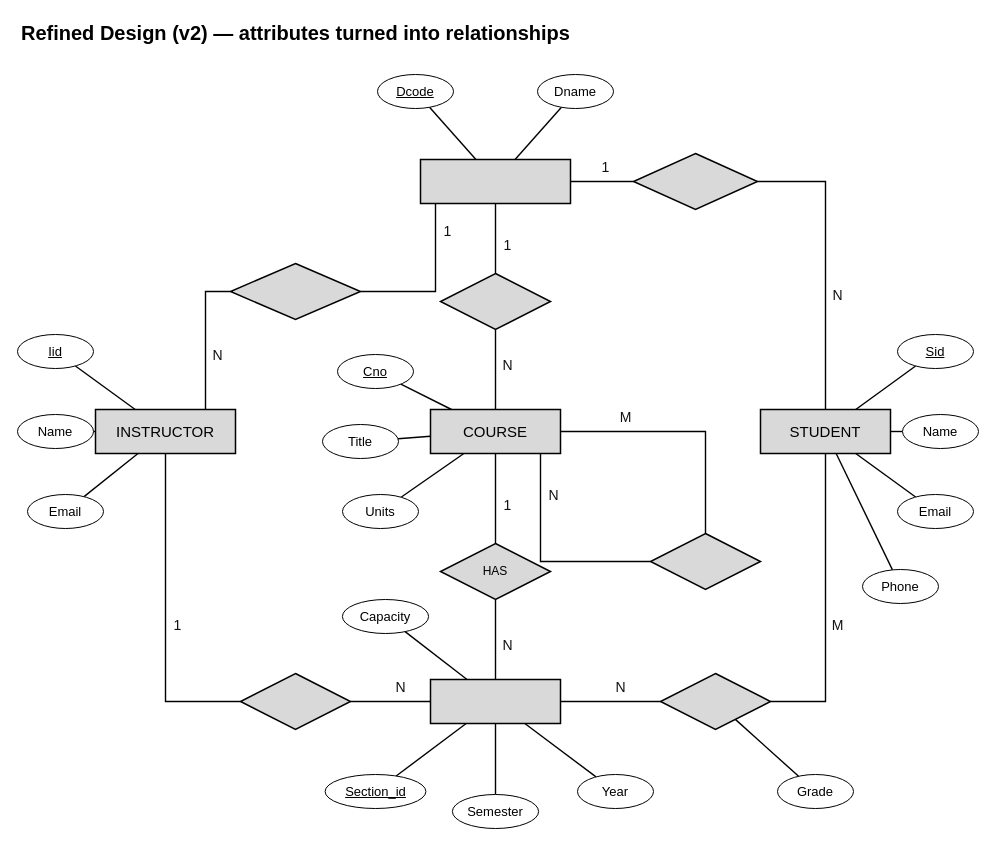
Image size: 996x846. Some labels were removed from this diagram. Here are the shapes that lost their labels. From the top down, the centre of each, then its label:
At (495,181): "DEPARTMENT".
At (695,181): "MAJORS_IN".
At (295,291): "BELONGS_TO".
At (495,301): "OFFERS".
At (705,561): "PREREQ".
At (295,701): "TEACHES".
At (495,701): "SECTION".
At (715,701): "ENROLLS".
